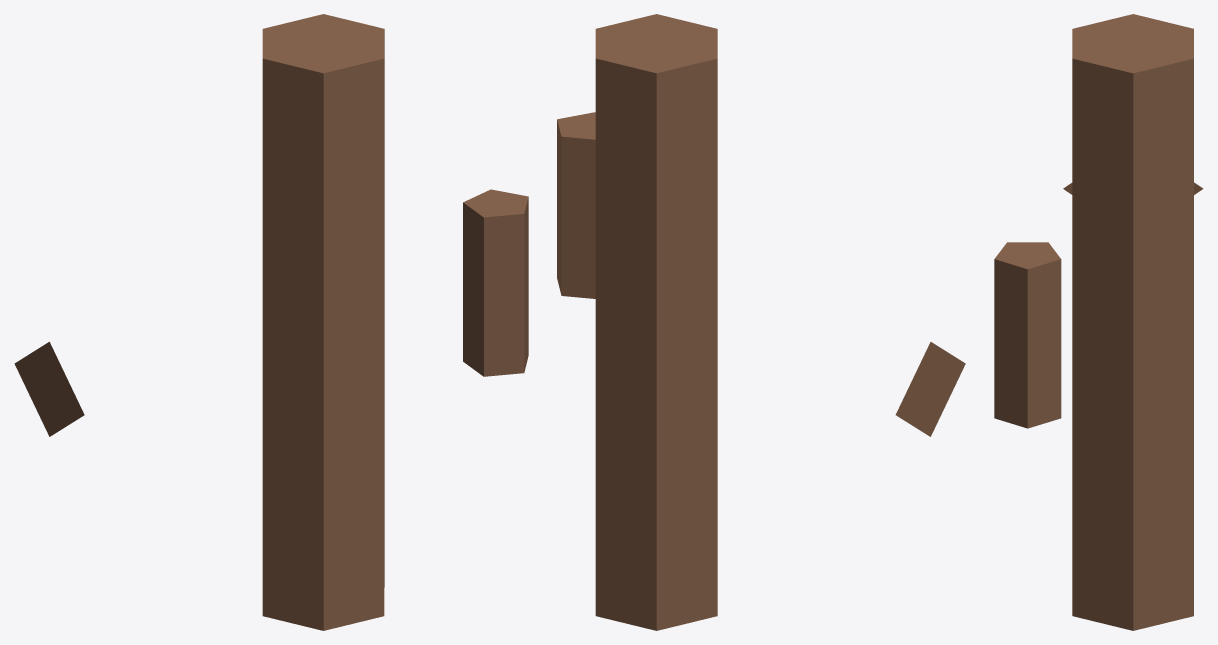
File: driftwood.obj
The picture shows the model from 3 angles, left to right: view 1: azimuth 30°, elevation 25°; view 2: azimuth 150°, elevation 25°; view 3: azimuth 270°, elevation 25°; orthographic projection.
Size of the model in its own units: 0.28 by 0.35 by 0.119.
